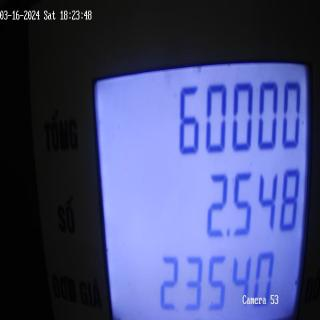screen: (87, 44, 316, 320)
